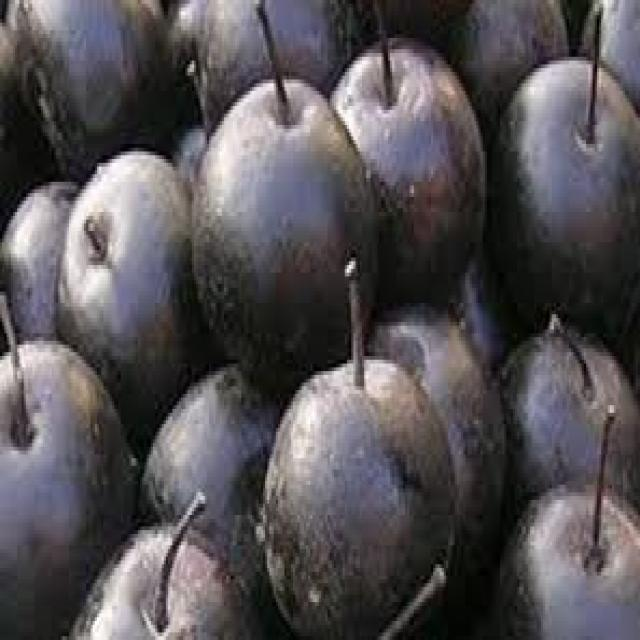organic waste: (185, 72, 377, 379), (256, 356, 454, 636), (138, 348, 302, 625), (487, 53, 638, 333), (0, 333, 134, 636), (330, 34, 485, 295), (360, 299, 506, 568), (56, 148, 203, 390), (491, 318, 638, 519), (6, 0, 172, 159), (56, 523, 261, 636), (496, 477, 638, 636), (163, 0, 349, 98), (0, 170, 75, 344), (448, 0, 569, 95), (577, 0, 638, 91)
